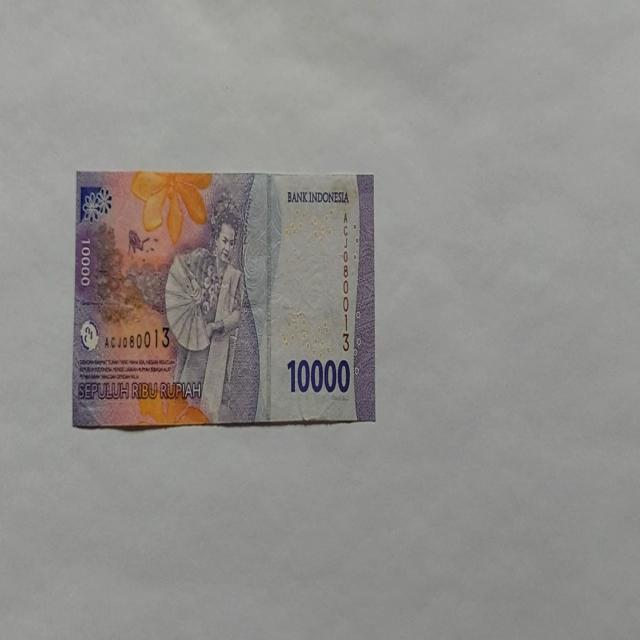sepuluh ribu rupiah: (72, 168, 376, 430)
